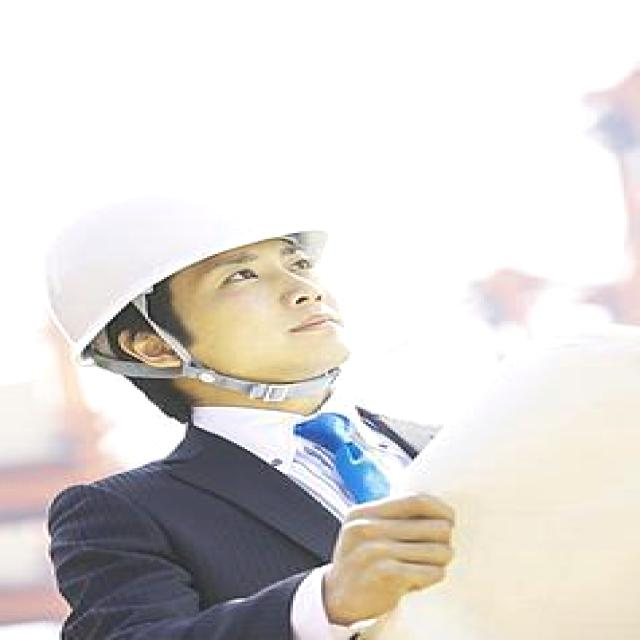face_nomask: (188, 244, 352, 390)
hand_noglove: (322, 497, 470, 621)
head_helmet: (30, 189, 355, 334)
person: (32, 158, 473, 640)
